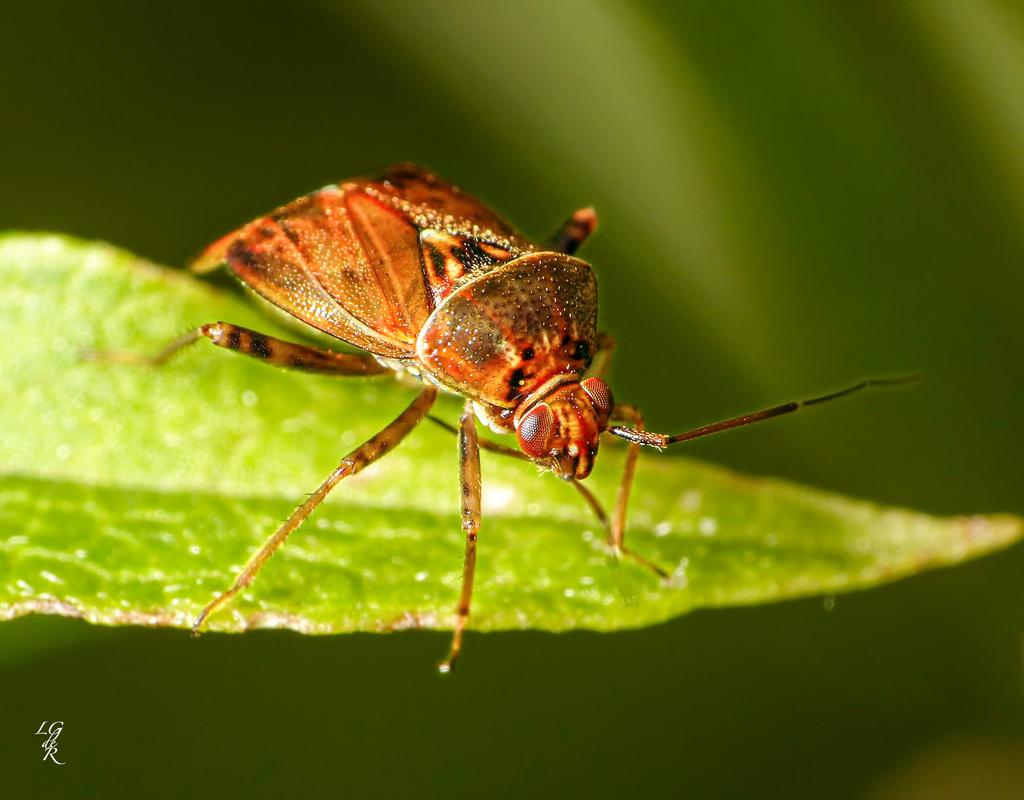plant_bugs: (74, 57, 957, 775)
